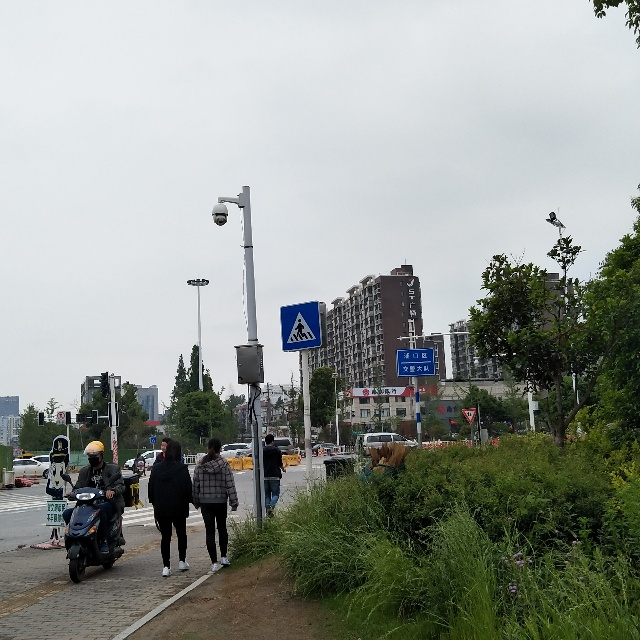crosswalk: (283, 306, 321, 347)
